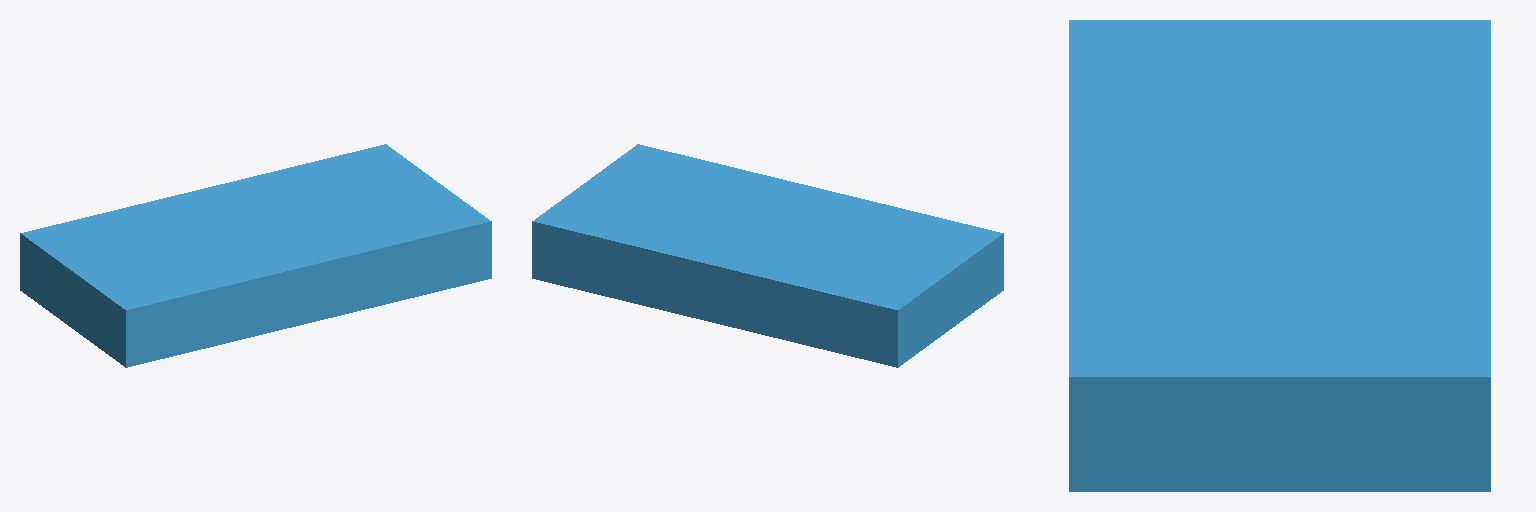
URDF robot description (urdf_table):
<?xml version="0.0" ?>
<robot name="urdf_table">

 <link name="world"/>
  <joint name="fixed" type="fixed">
    <parent link="world"/>
    <child link="baseLink"/>
    <origin xyz="0 0 0"/>
  </joint>

  <link name="baseLink">
    <inertial>
      <origin rpy="0 0 0" xyz="0 0 0"/>
       <mass value="0"/>
       <inertia ixx="0.1" ixy="0" ixz="0" iyy="0.1" iyz="0" izz="0.1"/>
    </inertial>
    <!-- <visual>
      <origin rpy="0 0 0" xyz="0 0 0.11"/>
      <geometry>
        <box size="0.5 0.5 0.08"/>
      </geometry>
	   <material name="framemat0">
      <color
        rgba="1 1 1 1" />
      </material>
    </visual> -->
    <!-- <visual>
      <origin rpy="0 0 0" xyz="-0.2 -0.2 0"/>
      <geometry>
        <box size="0.05 0.05 0.07"/>
      </geometry>
	    <material name="framemat0"/>	 
    </visual>

    <visual>
      <origin rpy="0 0 0" xyz="-0.2 0.2 0.035"/>
      <geometry>
        <box size="0.05 0.05 0.07"/>
      </geometry>
	  <material name="framemat0"/>
	  </visual>

    <visual>
      <origin rpy="0 0 0" xyz="0.2 -0.2 0.035"/>
      <geometry>
        <box size="0.05 0.05 0.07"/>
      </geometry>
	  <material name="framemat0"/>
	  </visual>

    <visual>
      <origin rpy="0 0 0" xyz="0.2 0.2 0.035"/>
      <geometry>
        <box size="0.05 0.05 0.07"/>
      </geometry>
    </visual> -->

    <collision>
      <origin rpy="0 0 0" xyz="0 0 0"/>
      <geometry>
        <box size="1.0 0.5 0.15"/>
      </geometry>
    </collision>   

    <visual>
      <origin rpy="0 0 0" xyz="0 0 0"/>
      <geometry>
        <box size="1.0 0.5 0.15"/>
      </geometry>
    </visual> 
  </link>
</robot>

--- Render facts (derived) ---
The picture shows the robot from 3 angles, left to right: view 1: azimuth 30°, elevation 25°; view 2: azimuth 150°, elevation 25°; view 3: azimuth 270°, elevation 25°; orthographic projection.
Model urdf_table with 2 links and 1 joints (1 fixed), rooted at world, posed all joints at 0.
Links seen in each view (by area): view 1: baseLink; view 2: baseLink; view 3: baseLink.
Link boxes in pixels (x1=…): baseLink: x1=20, y1=144, x2=491, y2=367; baseLink: x1=532, y1=144, x2=1003, y2=367; baseLink: x1=1069, y1=20, x2=1490, y2=491.
Size in the robot's own frame: 1 by 0.5 by 0.15 metres.
Geometry: primitives only (box / cylinder / sphere), no mesh files.